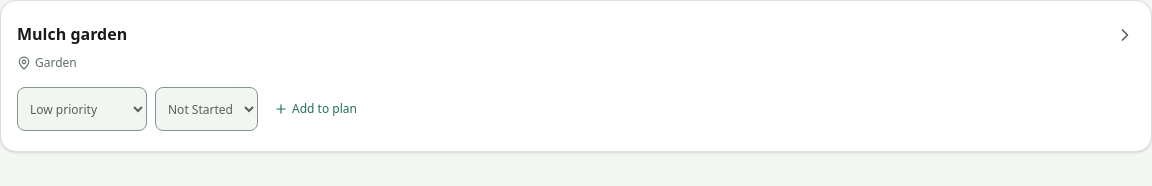
Scenario: completion stays clear before refreshed server data arrives › restores the card after a rejected completion, and keeps a direct recovery link for saved pending scheduling
The image size is (1152, 186).
Select "Completed" in the dropdown named "Status for Mulch garden". click: [206, 109]
box: [155, 87, 258, 131]
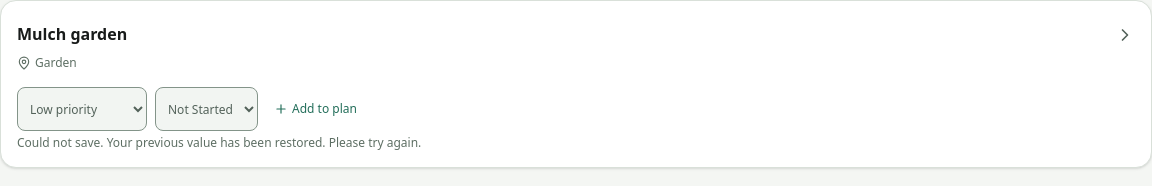
Now the text "Could not save. Your previous value has been restored. Please try again." is shown, box [17, 134, 421, 151]
Select "Completed" in the dropdown named "Status for Mulch garden". click: [206, 109]
box: [155, 87, 258, 131]
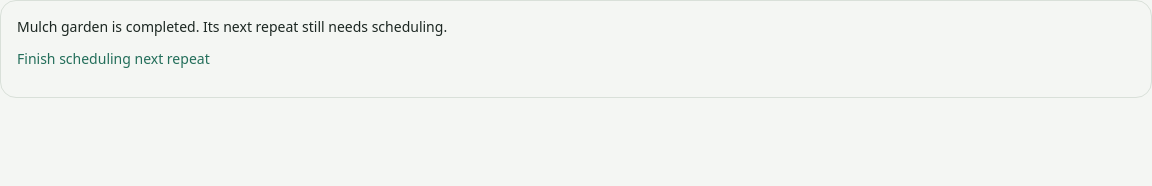
Now the link "Finish scheduling next repeat" is shown, box [17, 49, 210, 68]
Now the dropdown is gone
